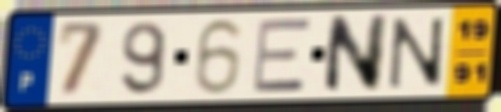6: (191, 16, 247, 98)
7: (54, 19, 110, 100)
9: (120, 20, 169, 96)
E: (250, 16, 313, 95)
N: (320, 12, 391, 96), (387, 16, 446, 91)
